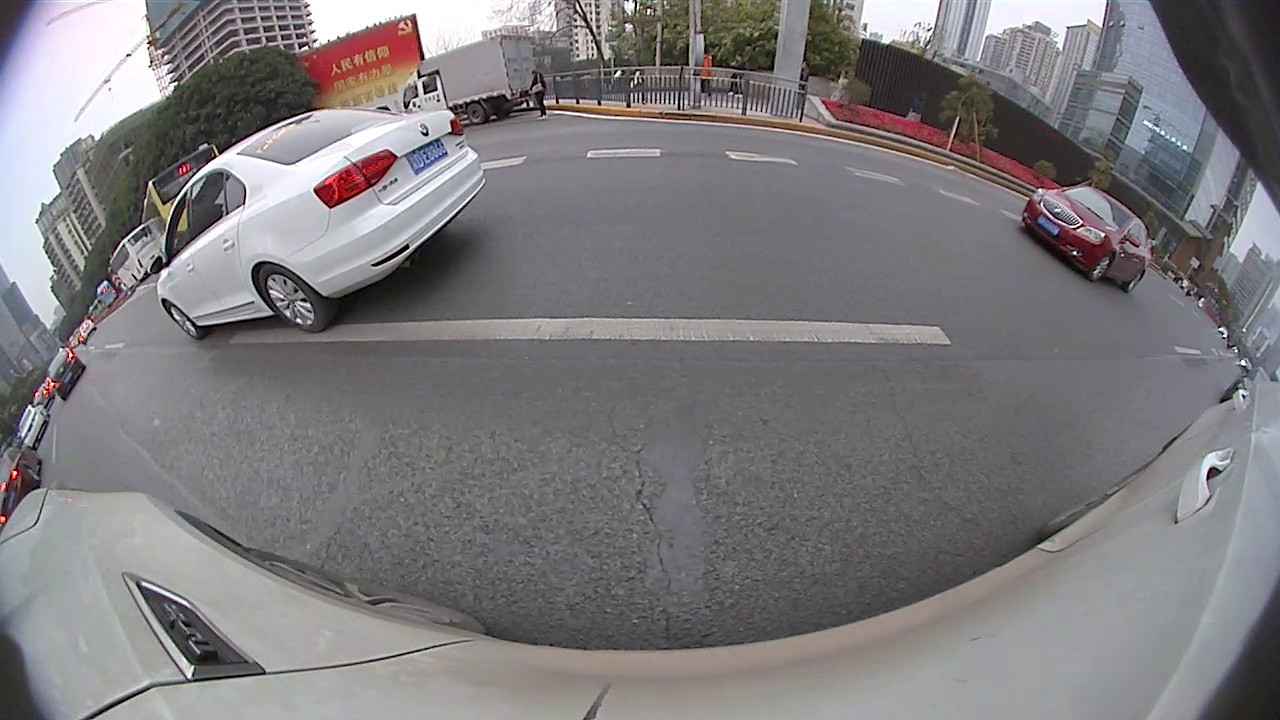bus: (141, 141, 222, 241), (106, 222, 168, 298)
car: (157, 106, 488, 346), (1019, 184, 1154, 294), (1, 449, 43, 530), (46, 344, 88, 402), (17, 404, 52, 453)
front: (162, 298, 204, 341), (1087, 251, 1114, 285)
person: (532, 67, 549, 119)
rear: (253, 258, 332, 335), (462, 99, 487, 123), (1124, 267, 1146, 294)
truck: (400, 33, 540, 127)
